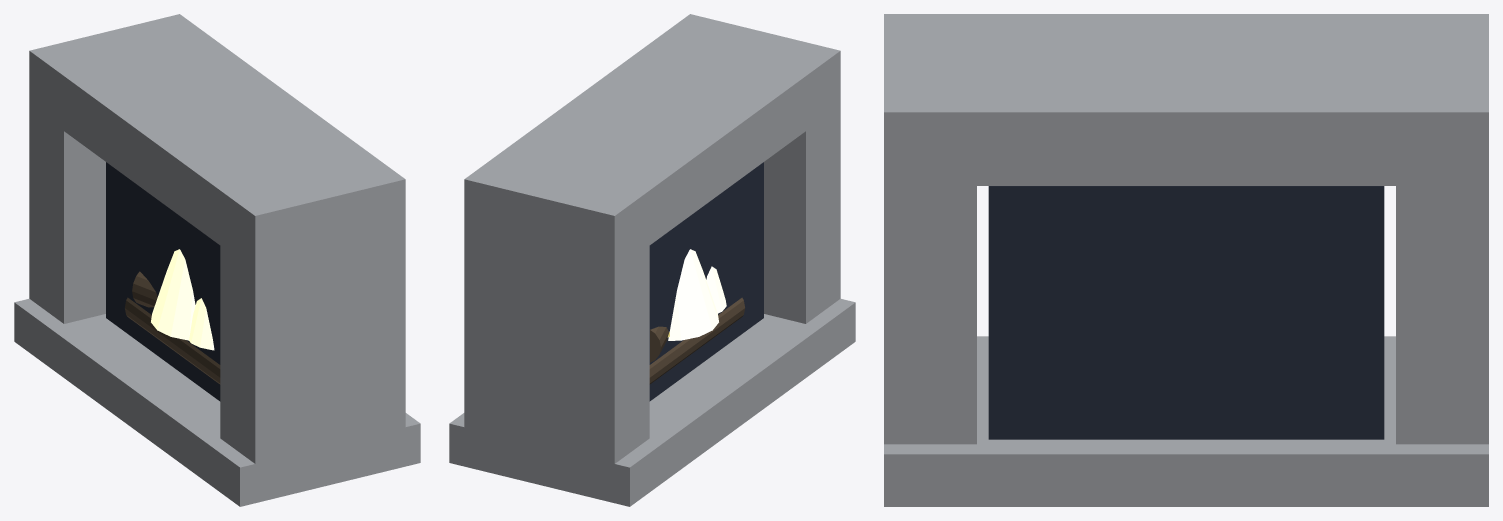
File: fireplace.fbx
3 renders of one model, left to right at view 1: azimuth 30°, elevation 25°; view 2: azimuth 150°, elevation 25°; view 3: azimuth 270°, elevation 25°, orthographic. The views are drawn at different scales.
Visible parts, largest first — view 1: fireplace; view 2: fireplace; view 3: fireplace.
Boxes of the visible parts, x1,y1,x2,y2 form: fireplace: [14, 14, 420, 506]; fireplace: [449, 14, 855, 506]; fireplace: [884, 14, 1488, 506].
Size of the model in its own units: 1.2 by 1.82 by 2.6.
